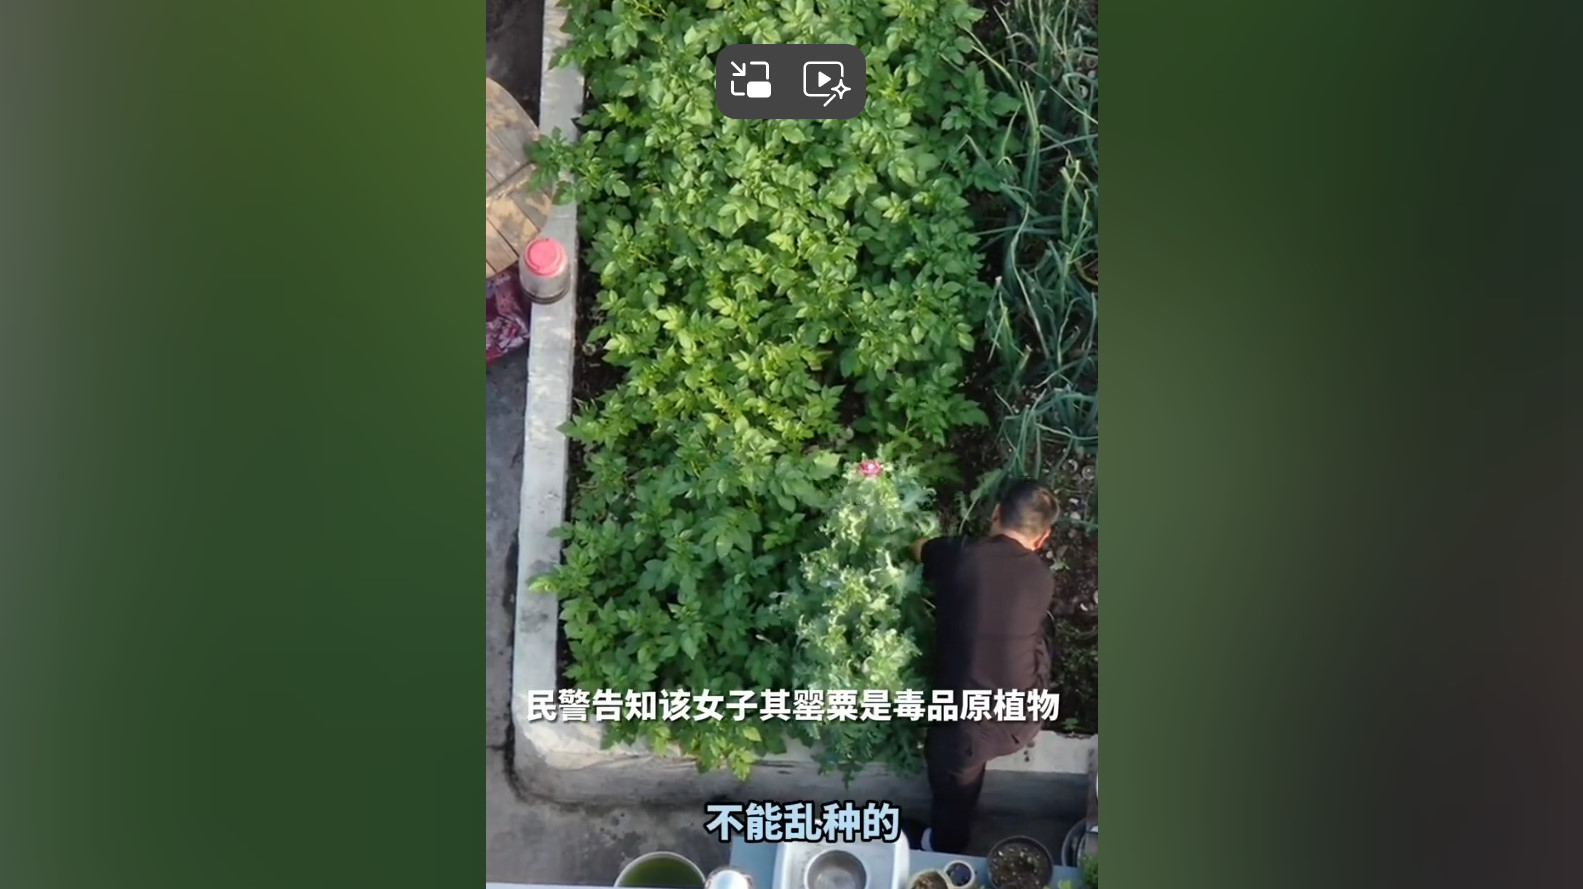Poppy: (790, 442, 938, 749)
